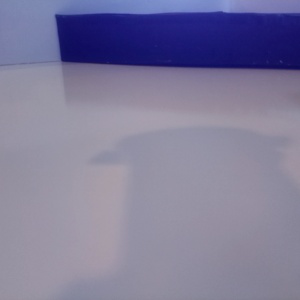zone: (54, 11, 300, 70)
